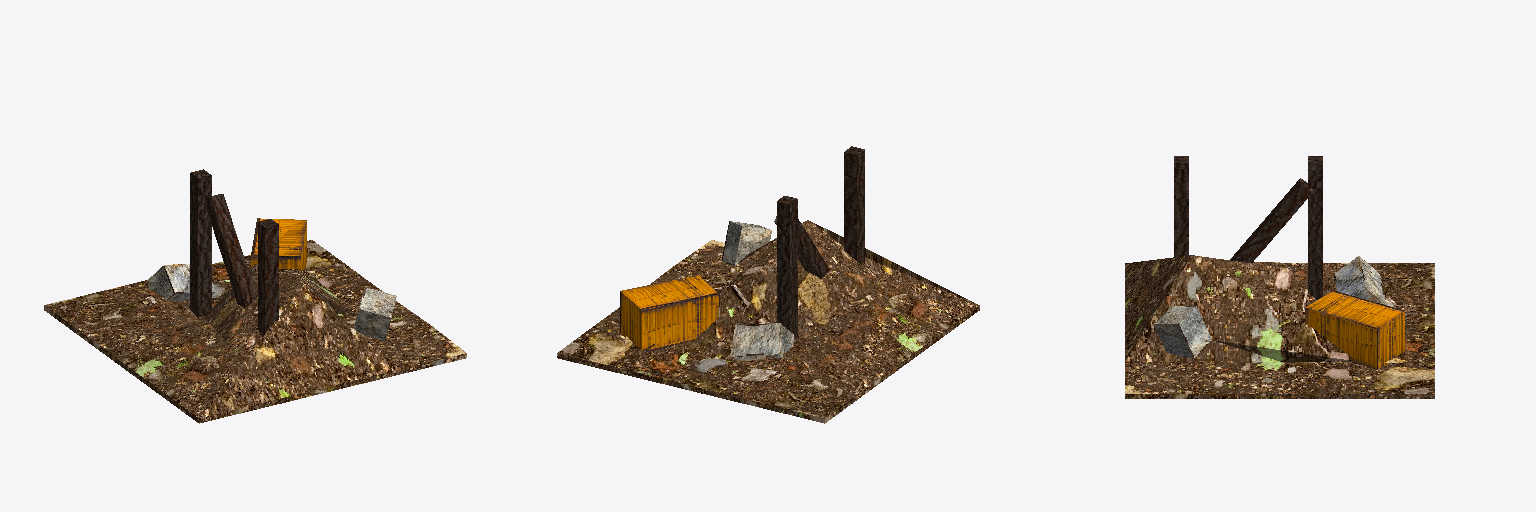
The picture shows the model from 3 angles: view 1: azimuth 30°, elevation 25°; view 2: azimuth 150°, elevation 25°; view 3: azimuth 270°, elevation 25°; orthographic projection.
Parts seen in each view (by area): view 1: construction; view 2: construction; view 3: construction.
Boxes of the visible parts, <box> form: construction: <box>44,169,466,423</box>; construction: <box>557,146,979,423</box>; construction: <box>1125,156,1434,398</box>.
Size of the model in its own units: 2.01 by 1.12 by 2.
Materials: 1 (1 with a texture image).